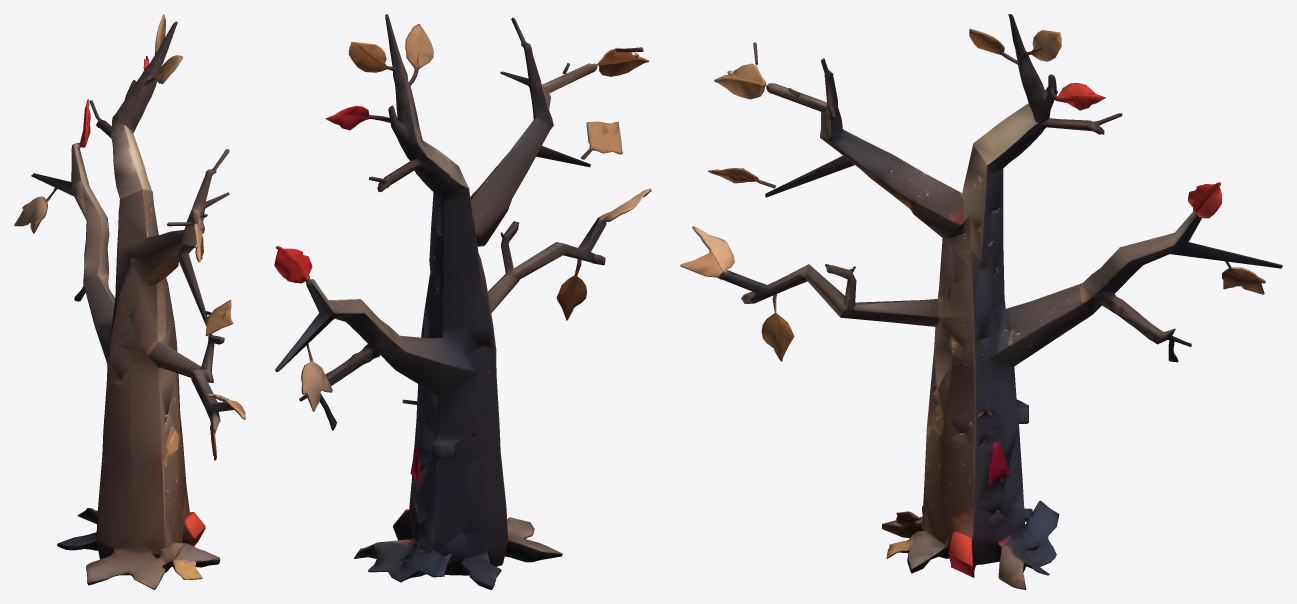
File: bare_tree.glb
The picture shows the model from 3 angles, left to right: view 1: azimuth 30°, elevation 25°; view 2: azimuth 150°, elevation 25°; view 3: azimuth 270°, elevation 25°; orthographic projection. The views are drawn at different scales.
Parts seen in each view (by area): view 1: tripo_node_1fb91b75-ddd5-48d5-b930-ebf5c028cab3; view 2: tripo_node_1fb91b75-ddd5-48d5-b930-ebf5c028cab3; view 3: tripo_node_1fb91b75-ddd5-48d5-b930-ebf5c028cab3.
Boxes of the visible parts, <box> form: tripo_node_1fb91b75-ddd5-48d5-b930-ebf5c028cab3: <box>14,14,245,589</box>; tripo_node_1fb91b75-ddd5-48d5-b930-ebf5c028cab3: <box>274,14,651,589</box>; tripo_node_1fb91b75-ddd5-48d5-b930-ebf5c028cab3: <box>680,14,1282,589</box>.
Bounding box in the file's own units: 0.371 × 1.2 × 1.16.
Materials: 1 (1 with a texture image).
